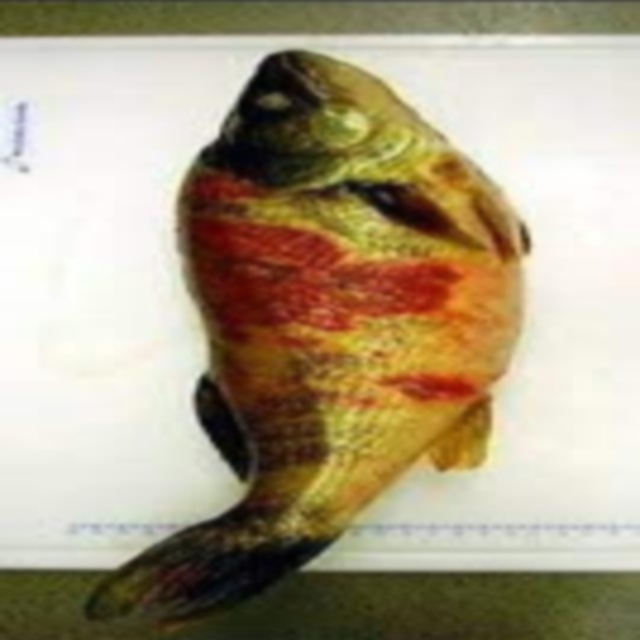EUS Disease: (88, 38, 514, 634), (178, 144, 512, 584)
